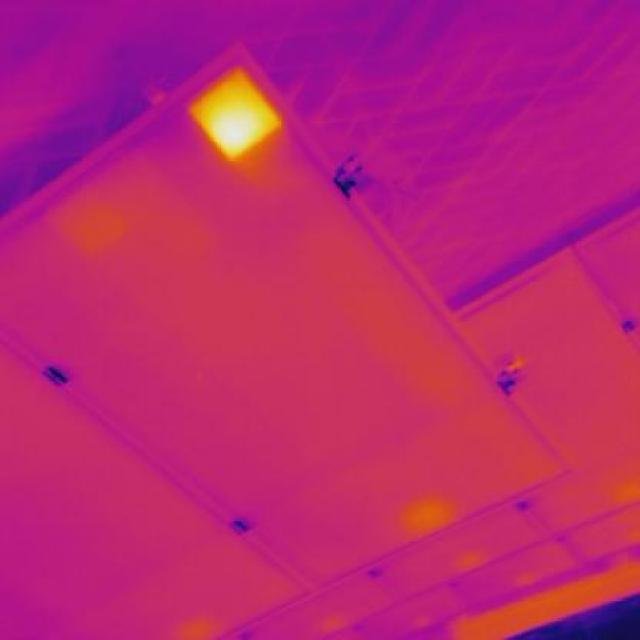hotspot: (184, 58, 290, 164)
